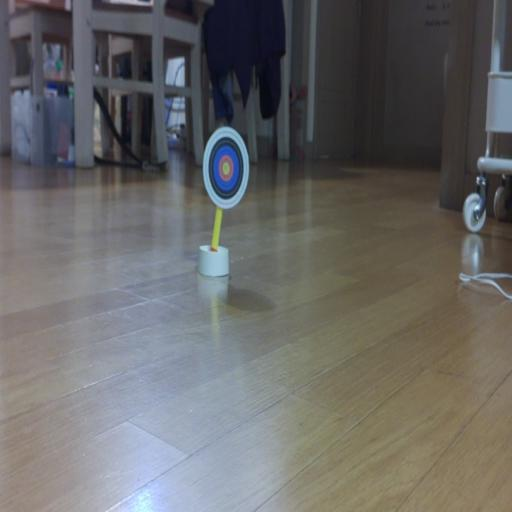target: (203, 127, 248, 208)
